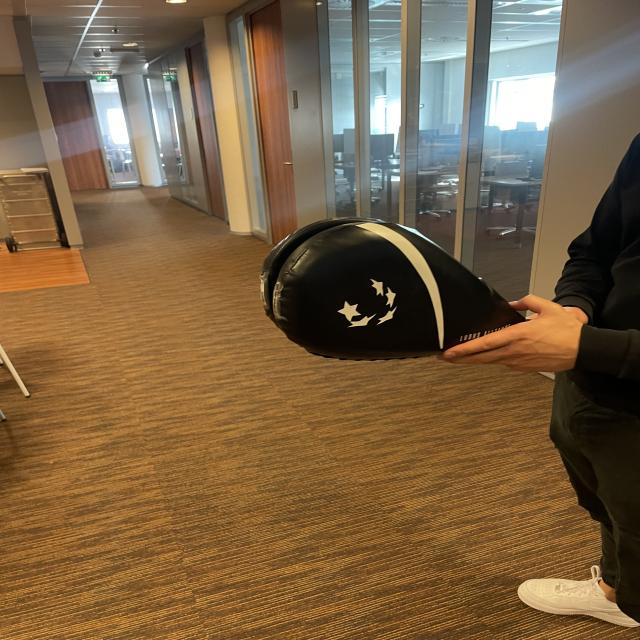paddle: (259, 219, 510, 360)
